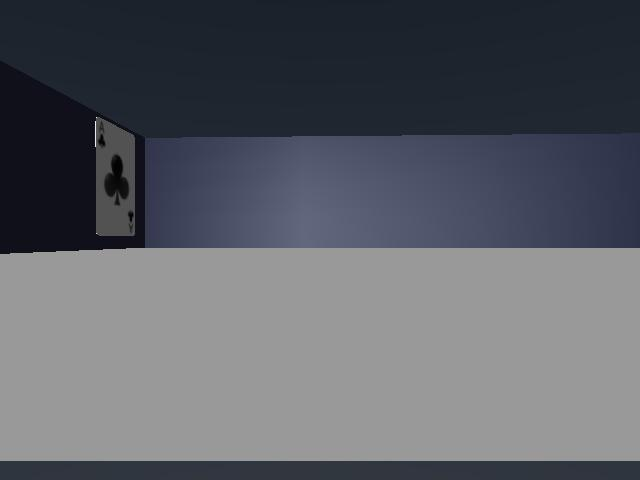club: (96, 118, 135, 235)
